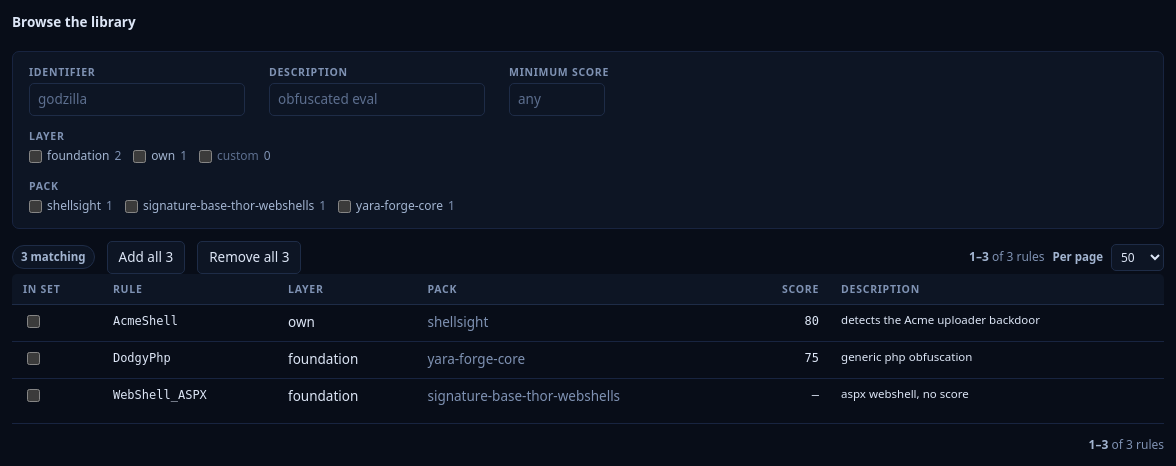
filtering by description narrows the list
The width and height of the screenshot is (1176, 466).
Type "obfuscation" into the field labelled "Description" at (377, 100), box [269,83,485,116]
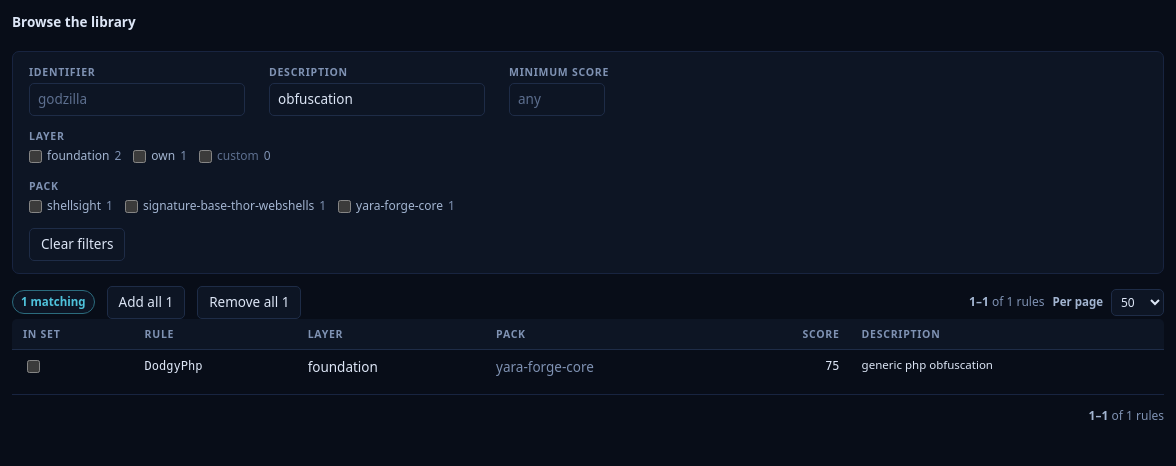
Check: the text "DodgyPhp" is shown, box [134,349,297,386]
Check: the text "AcmeShell" is gone
